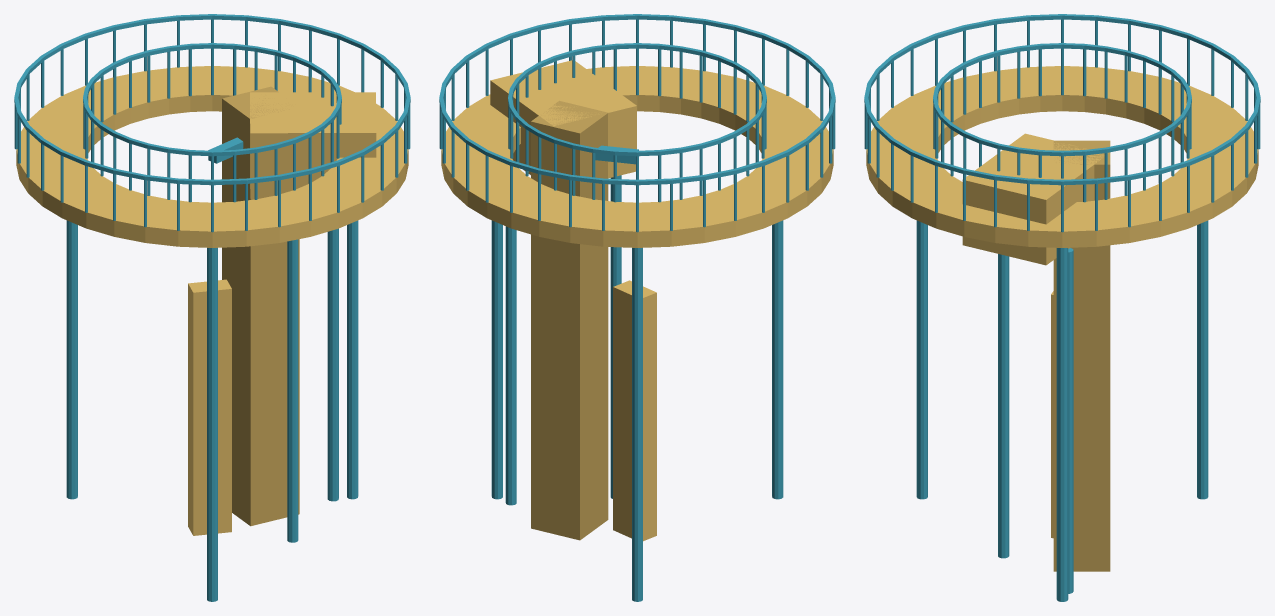
The model's file is folie_tag_104.glb.
3 views of the same model, side by side, from view 1: azimuth 30°, elevation 25°; view 2: azimuth 150°, elevation 25°; view 3: azimuth 270°, elevation 25° (orthographic).
Parts seen in each view (by area): view 1: folie_tag_104_line, folie_tag_104_00_ring, folie_tag_104_core, folie_tag_104_01_block, folie_tag_104_02_fin; view 2: folie_tag_104_line, folie_tag_104_00_ring, folie_tag_104_core, folie_tag_104_02_fin, folie_tag_104_01_block; view 3: folie_tag_104_line, folie_tag_104_00_ring, folie_tag_104_core, folie_tag_104_01_block, folie_tag_104_02_fin.
Part boxes in pixels (<box>): folie_tag_104_line: <box>14,14,410,601</box>; folie_tag_104_00_ring: <box>16,66,408,247</box>; folie_tag_104_core: <box>222,86,299,526</box>; folie_tag_104_01_block: <box>250,92,376,198</box>; folie_tag_104_02_fin: <box>188,279,231,535</box>; folie_tag_104_line: <box>439,14,835,601</box>; folie_tag_104_00_ring: <box>441,66,833,247</box>; folie_tag_104_core: <box>531,100,608,540</box>; folie_tag_104_02_fin: <box>613,280,656,541</box>; folie_tag_104_01_block: <box>490,60,636,178</box>; folie_tag_104_line: <box>864,14,1260,601</box>; folie_tag_104_00_ring: <box>866,66,1258,247</box>; folie_tag_104_core: <box>1053,140,1110,571</box>; folie_tag_104_01_block: <box>962,133,1104,265</box>; folie_tag_104_02_fin: <box>1051,291,1053,538</box>.
Bounding box in the file's own units: 7.68 × 9.27 × 7.68.
